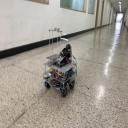cart: (43, 58, 77, 98)
